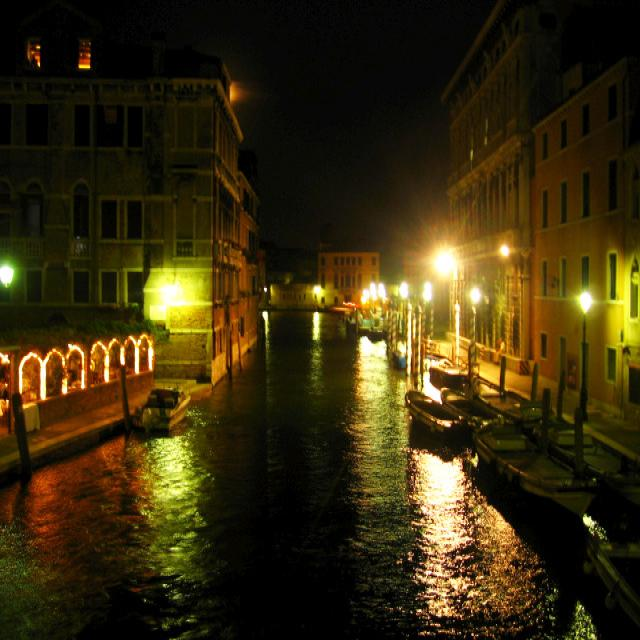Boat: (467, 386, 584, 533), (115, 356, 193, 445), (580, 525, 640, 640), (394, 381, 472, 468)
